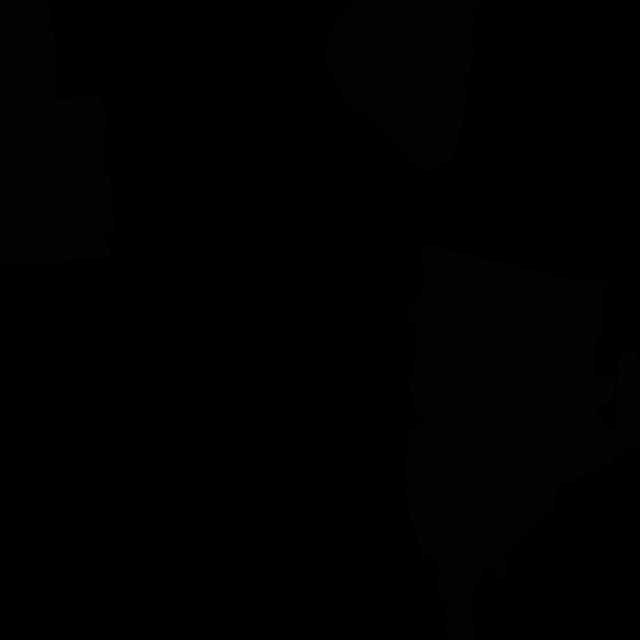cardboard: (402, 325, 585, 640), (407, 244, 612, 435), (324, 0, 481, 175), (0, 94, 116, 266), (570, 349, 640, 480), (0, 0, 58, 100)
